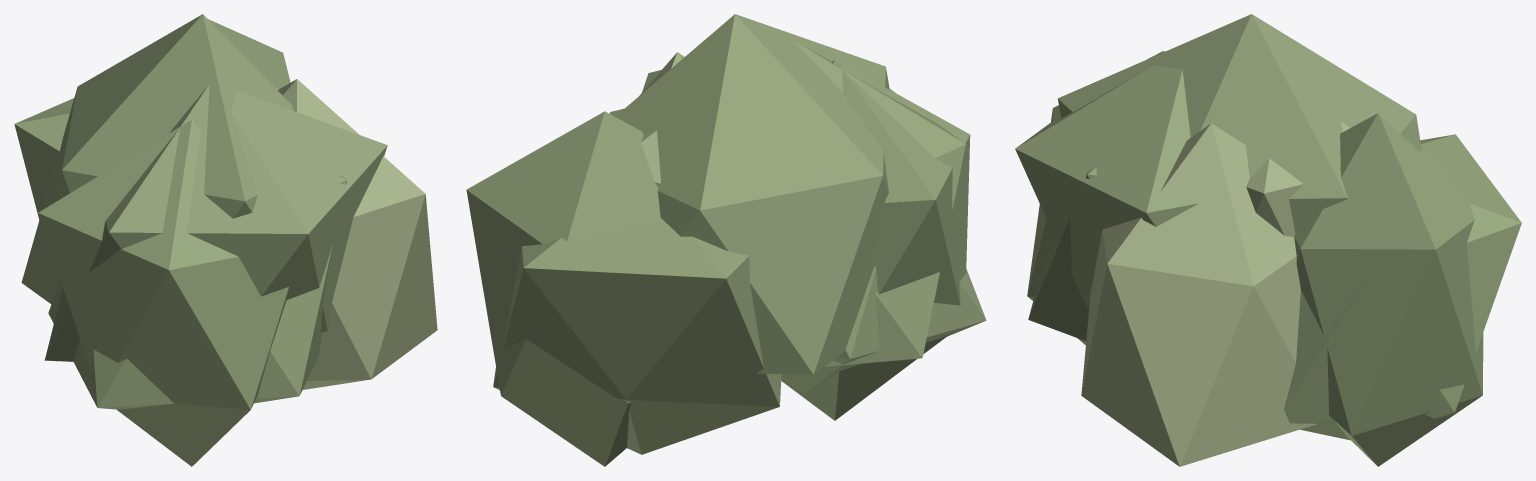
File: Greasewood.glb
The picture shows the model from 3 angles, left to right: view 1: azimuth 30°, elevation 25°; view 2: azimuth 150°, elevation 25°; view 3: azimuth 270°, elevation 25°; orthographic projection. The views are drawn at different scales.
Visible parts, largest first — view 1: Shrub clump.008, Shrub clump.012, Shrub clump.015, Shrub clump.013, Shrub clump.010, Shrub clump.007, Shrub clump.009; view 2: Shrub clump.015, Shrub clump.007, Shrub clump.009, Shrub clump.008, Shrub clump.012, Shrub clump.010, Shrub clump.014; view 3: Shrub clump.013, Shrub clump.009, Shrub clump.015, Shrub clump.012, Shrub clump.007, Shrub clump.010, Shrub clump.014, Shrub clump.008.
Boxes of the visible parts, x1,y1,x2,y2 form: Shrub clump.008: (38, 120, 288, 466); Shrub clump.012: (44, 84, 387, 361); Shrub clump.015: (21, 14, 293, 304); Shrub clump.013: (277, 79, 437, 389); Shrub clump.010: (48, 175, 346, 409); Shrub clump.007: (14, 98, 74, 219); Shrub clump.009: (208, 19, 290, 89); Shrub clump.015: (615, 14, 889, 374); Shrub clump.007: (493, 218, 781, 454); Shrub clump.009: (466, 111, 660, 466); Shrub clump.008: (781, 59, 970, 420); Shrub clump.012: (642, 40, 965, 366); Shrub clump.010: (781, 266, 986, 394); Shrub clump.014: (609, 108, 660, 185); Shrub clump.013: (1081, 123, 1317, 466); Shrub clump.009: (1294, 113, 1483, 466); Shrub clump.015: (1058, 14, 1421, 233); Shrub clump.012: (1015, 65, 1197, 311); Shrub clump.007: (1284, 134, 1521, 440); Shrub clump.010: (1028, 166, 1096, 340); Shrub clump.014: (1246, 121, 1353, 236); Shrub clump.008: (1027, 51, 1165, 344).
Size of the model in its own units: 1.63 by 1.68 by 1.82.
